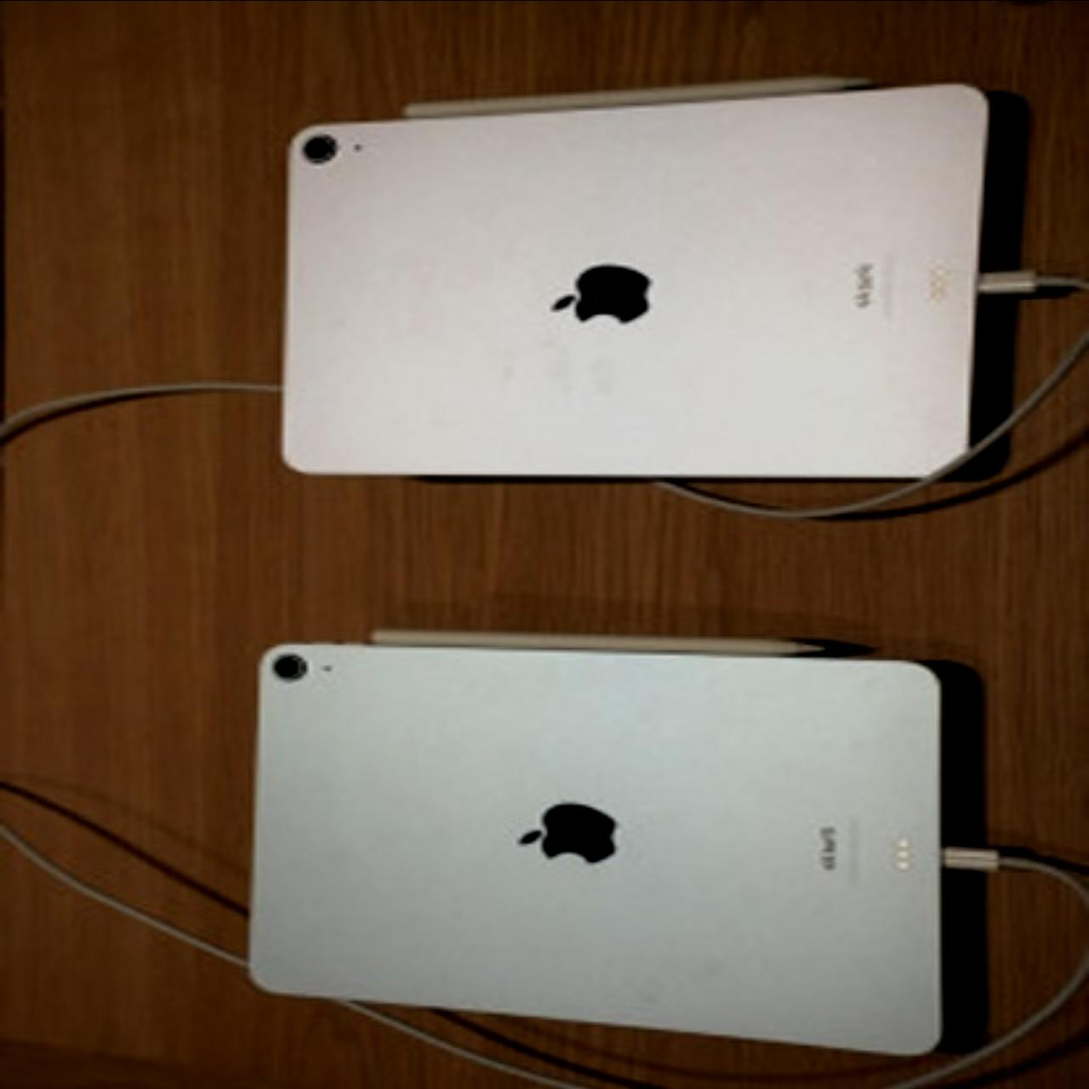Tablet_PC: (231, 620, 1003, 1068), (270, 74, 1023, 505)
